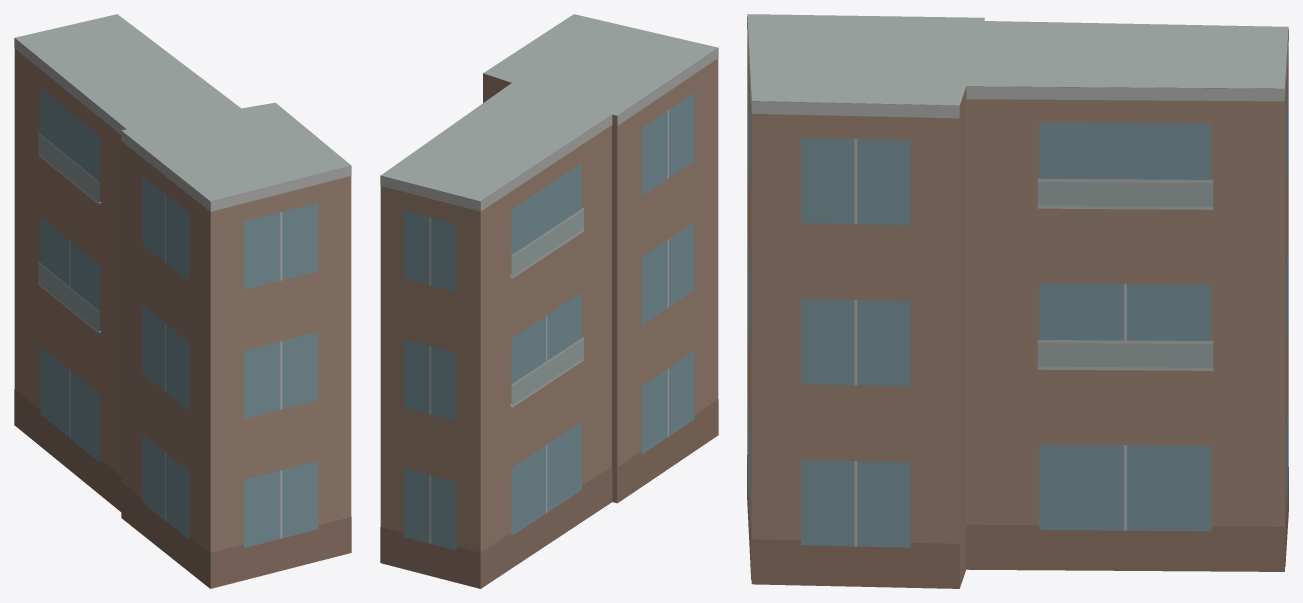
The model's file is survey-upis-32941099.glb.
The picture shows the model from 3 angles, left to right: view 1: azimuth 30°, elevation 25°; view 2: azimuth 150°, elevation 25°; view 3: azimuth 270°, elevation 25°; orthographic projection. The views are drawn at different scales.
Parts seen in each view (by area): view 1: survey-upis-32941099.tmp; view 2: survey-upis-32941099.tmp; view 3: survey-upis-32941099.tmp.
Part boxes in pixels (box(x1,y1,x2,y2)): survey-upis-32941099.tmp: box(14, 14, 351, 588); survey-upis-32941099.tmp: box(380, 14, 718, 588); survey-upis-32941099.tmp: box(747, 14, 1288, 588).
Size of the model in its own units: 3.72 by 9.15 by 9.3.
